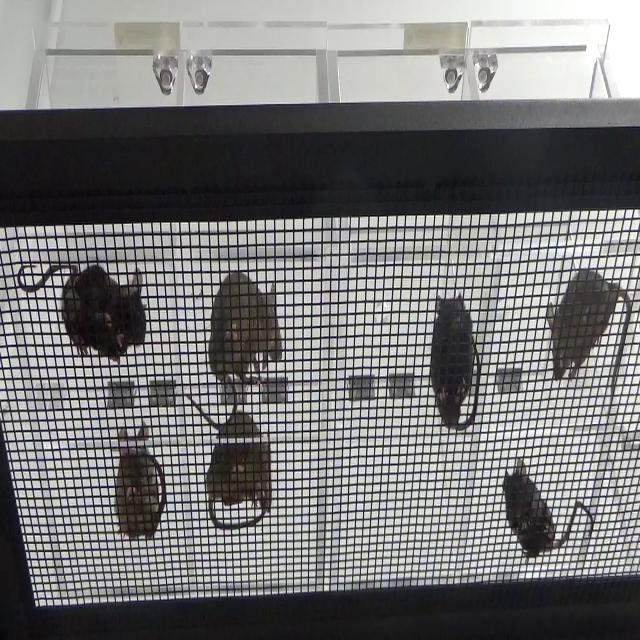lick claw: (427, 286, 484, 444)
